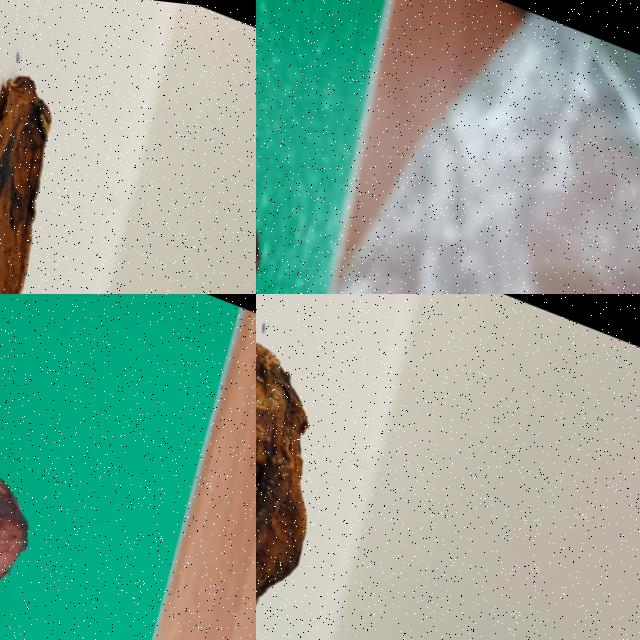Fine_cocoabeans: (0, 304, 86, 639)
Flat_cocoabeans: (256, 294, 413, 639), (0, 0, 142, 293), (256, 0, 369, 293)
